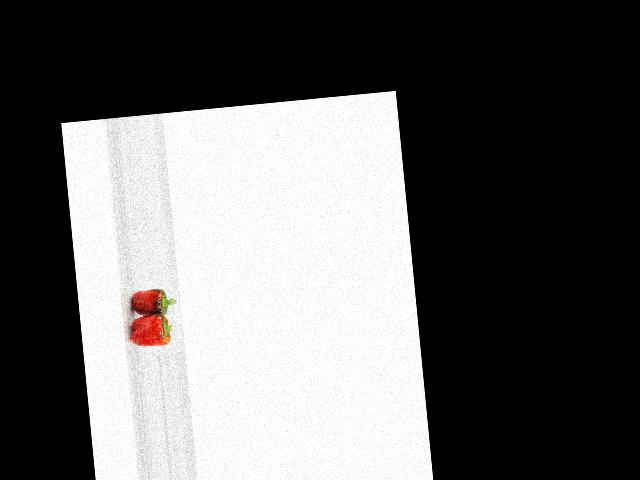bell_pepper: (128, 313, 177, 353)
